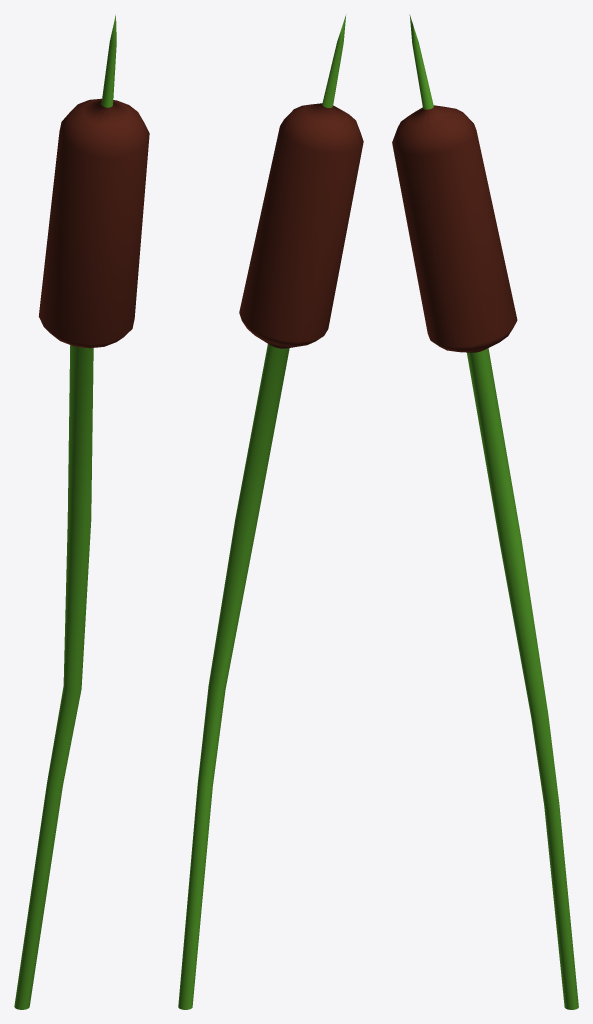
File: cattail.fbx
3 renders of one model, left to right at view 1: azimuth 90°, elevation 25°; view 2: azimuth 150°, elevation 25°; view 3: azimuth 330°, elevation 25°, orthographic. The views are drawn at different scales.
Parts seen in each view (by area): view 1: Cylinder; view 2: Cylinder; view 3: Cylinder.
Part boxes in pixels (<box>): Cylinder: <box>14,15,149,1009</box>; Cylinder: <box>178,14,363,1009</box>; Cylinder: <box>392,14,578,1009</box>.
Size of the model in its own units: 41.65 by 281 by 32.7.
